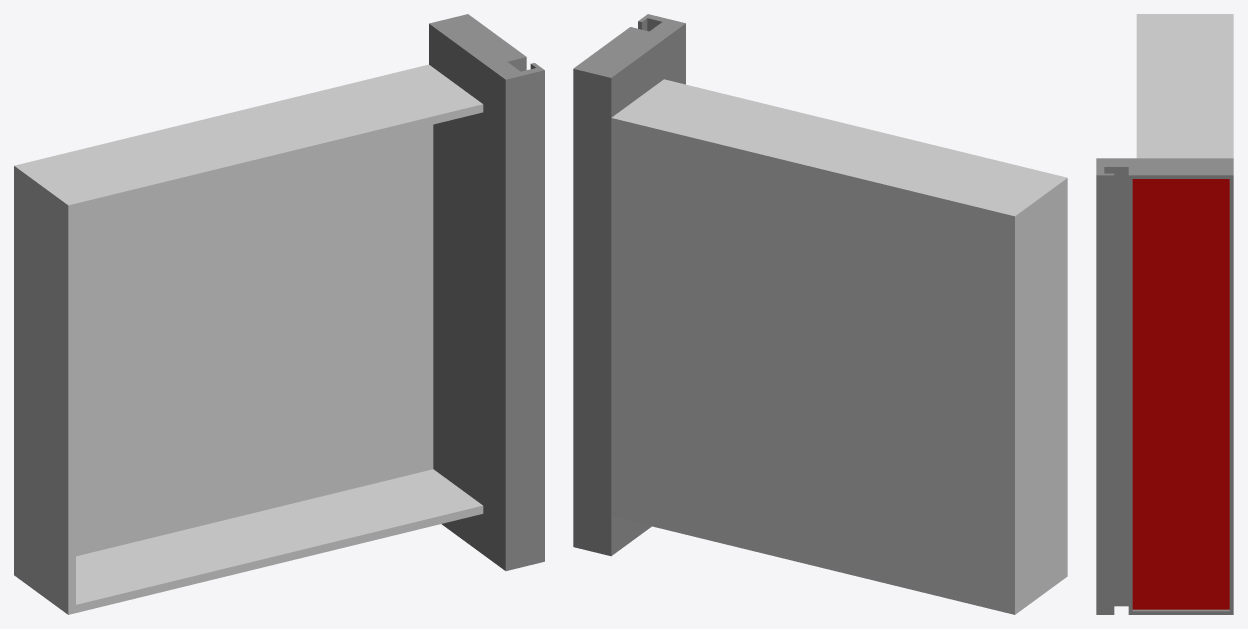
File: ROOM602-KITCHEN-BODYSET10_link_mesh.dae
3 views of the same model, side by side, from view 1: azimuth 30°, elevation 25°; view 2: azimuth 150°, elevation 25°; view 3: azimuth 270°, elevation 25° (orthographic). The views are drawn at different scales.
Parts seen in each view (by area): view 1: ROOM602-KITCHEN-BODYSET10_link (×2); view 2: ROOM602-KITCHEN-BODYSET10_link (×2); view 3: ROOM602-KITCHEN-BODYSET10_link (×3).
Boxes of the visible parts, <box> form: ROOM602-KITCHEN-BODYSET10_link (×2): <box>14,14,544,614</box>; ROOM602-KITCHEN-BODYSET10_link (×2): <box>573,14,1067,614</box>; ROOM602-KITCHEN-BODYSET10_link (×3): <box>1096,14,1233,614</box>.
Size of the model in its own units: 0.58 by 0.6 by 0.17.
